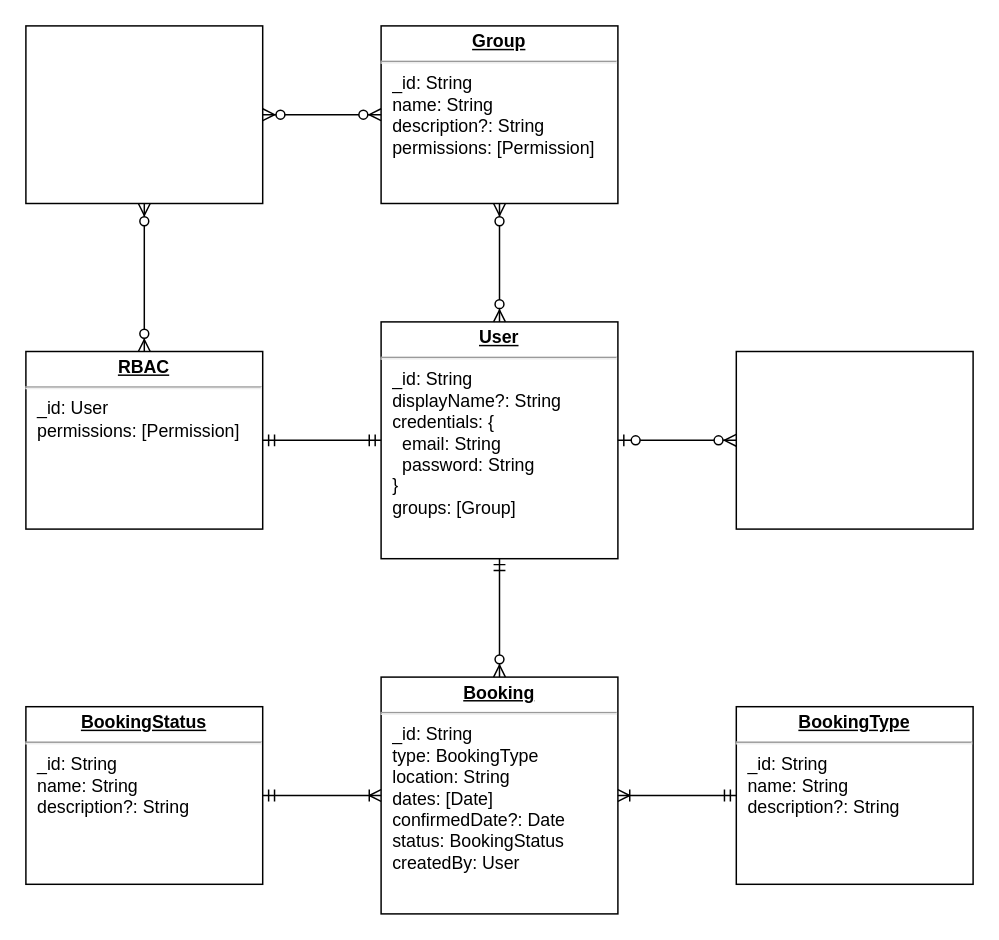
The diagram is 999 pixels wide and 940 high, and some of its shapes have lost their labels. Here are the shapes that lost their labels. From the top down, the centre of each, then its label:
(x=143, y=114): Permission _id: String name: String description?: String
(x=854, y=439): Session _id: String cookie: String user?: User
